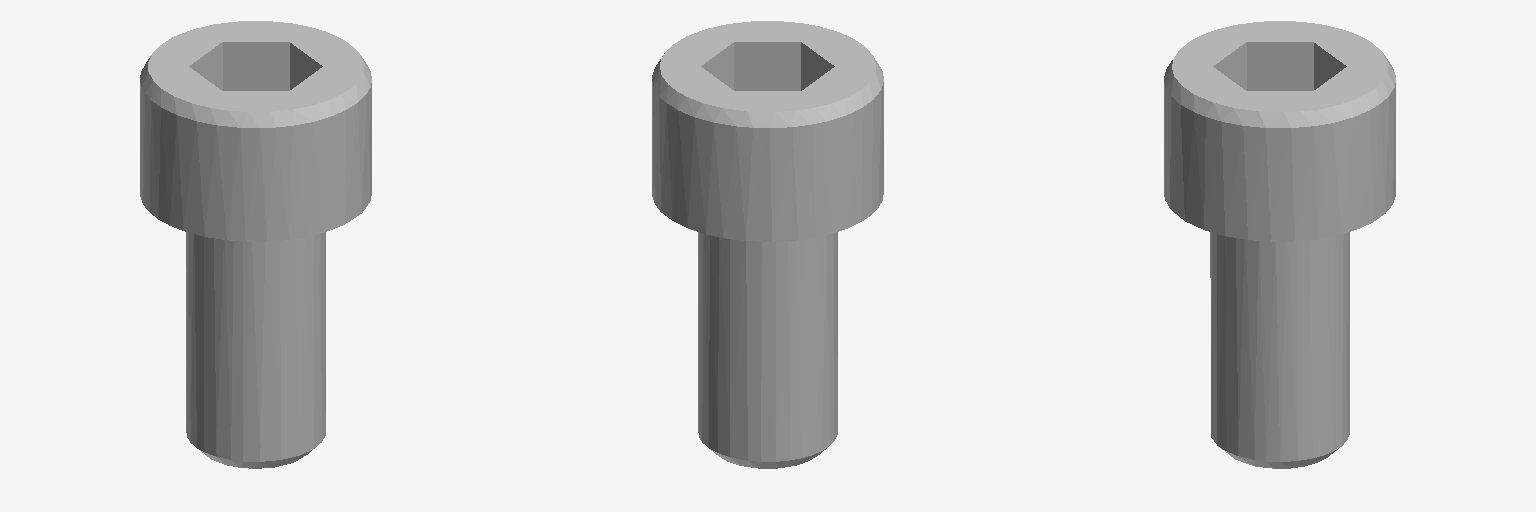
The model's file is body_link0_0.obj.
3 renders of one model, left to right at view 1: azimuth 30°, elevation 25°; view 2: azimuth 150°, elevation 25°; view 3: azimuth 270°, elevation 25°, orthographic.
Parts seen in each view (by area): view 1: body_link0_0; view 2: body_link0_0; view 3: body_link0_0.
Part boxes in pixels (x1,y1,x2,y2): body_link0_0: (140, 21, 371, 468); body_link0_0: (652, 21, 883, 468); body_link0_0: (1164, 21, 1395, 468).
Size of the model in its own units: 9.99 by 18 by 10.01.